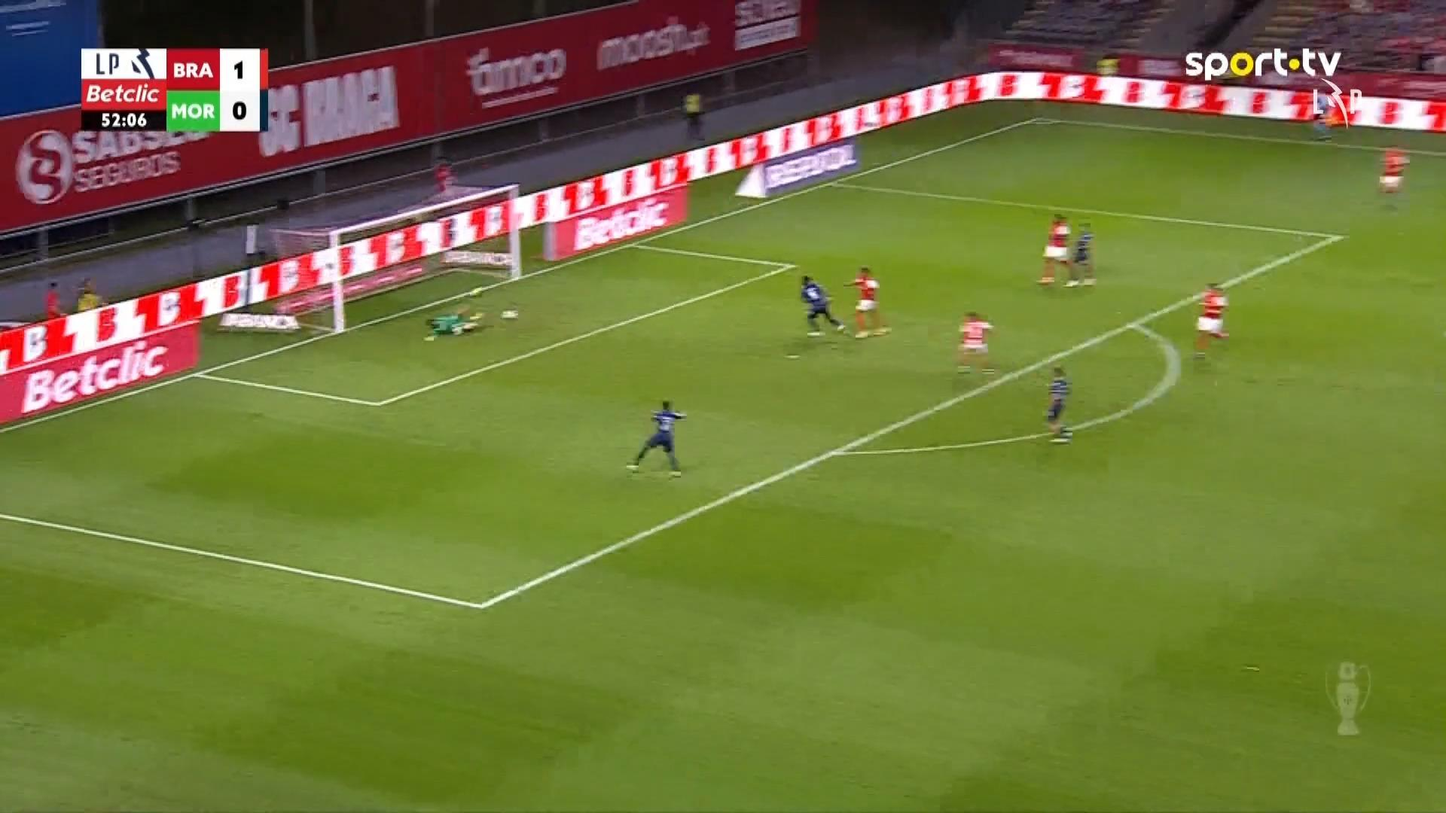ball: (500, 309, 517, 319)
goalkeeper: (423, 306, 483, 340)
player: (624, 398, 687, 478), (843, 266, 891, 338), (1191, 280, 1230, 359), (1036, 212, 1076, 288), (799, 274, 846, 336), (954, 309, 994, 375), (1043, 364, 1073, 443), (1066, 220, 1097, 287), (1377, 147, 1410, 193)
referee: (1310, 87, 1334, 141)
